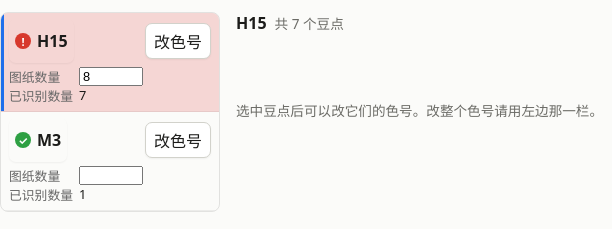
Test: 改进来的豆点出现在目标色号下
The image size is (612, 229).
Step 1. Click the button named "查看 M3" → click(38, 140), box 9,118 -> 67,162
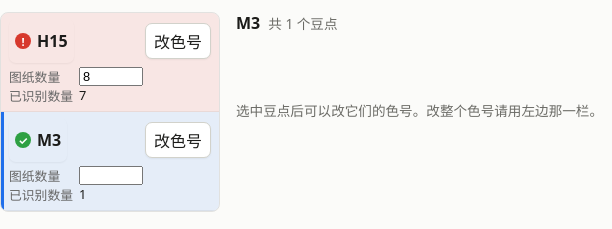
expect the text "共 1 个豆点" is shown: met, box 268,13 -> 338,33
